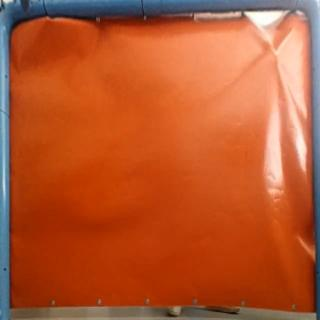Hit-hRxx: (271, 48, 285, 62)
